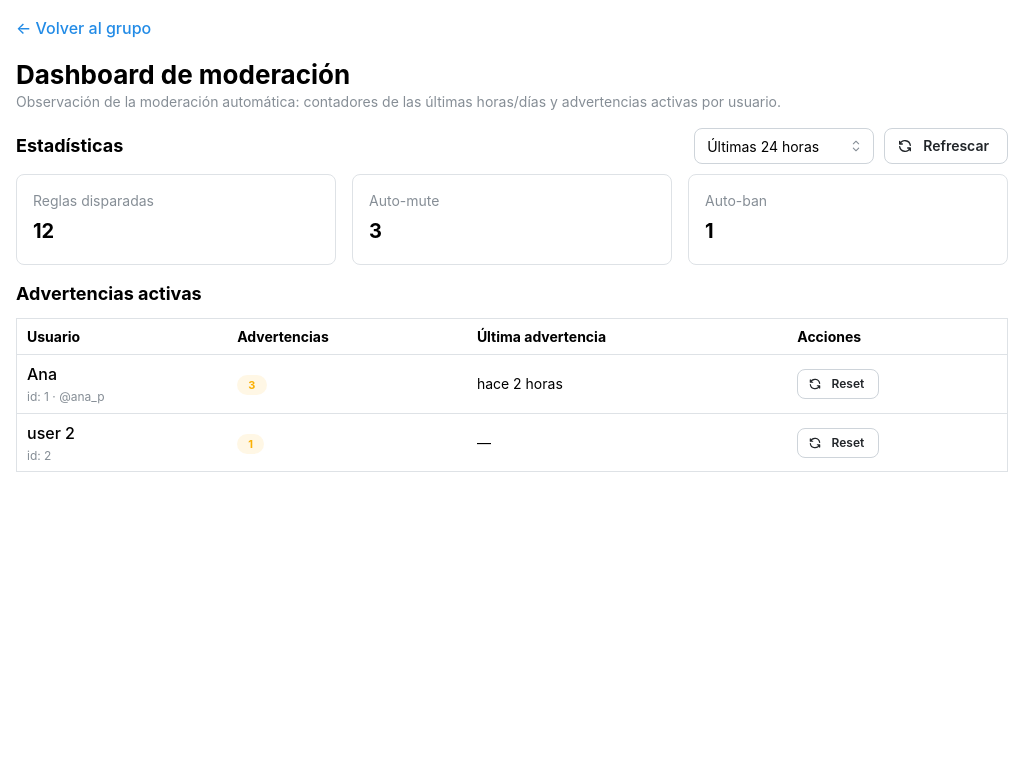
Test: GroupModerationPage › abre el Modal de confirm al click en Reset y cancela sin disparar POST
Click the button with test id "warning-reset-1" at (838, 384), box left=797, top=369, right=879, bottom=399
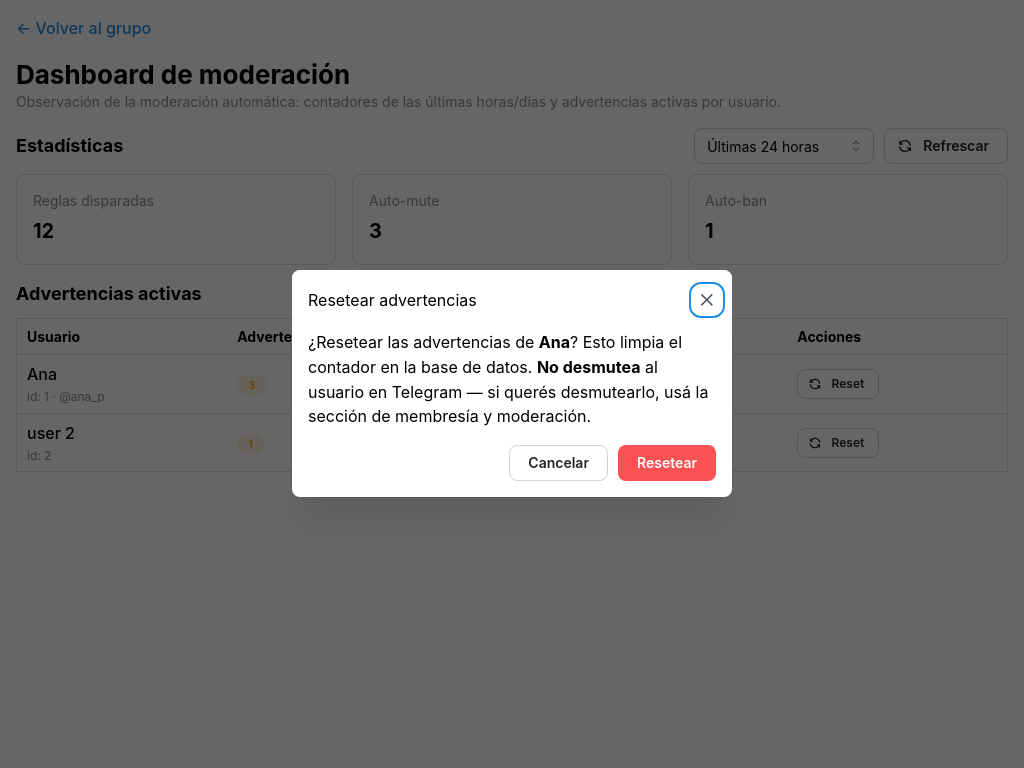
Check: the button with test id "reset-warning-cancel" is shown
Check: the button with test id "reset-warning-confirm" is shown, box left=618, top=446, right=716, bottom=482
Click the button with test id "reset-warning-cancel" at (559, 464), box left=509, top=446, right=608, bottom=482
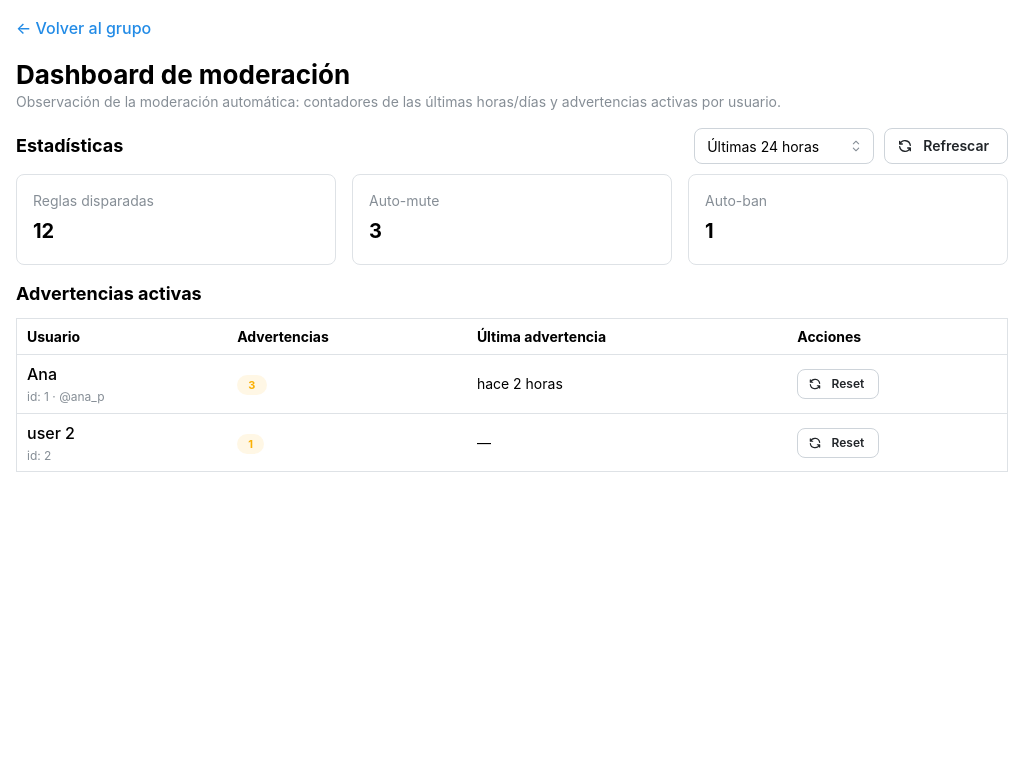
Check: the text "No desmutea" is gone
